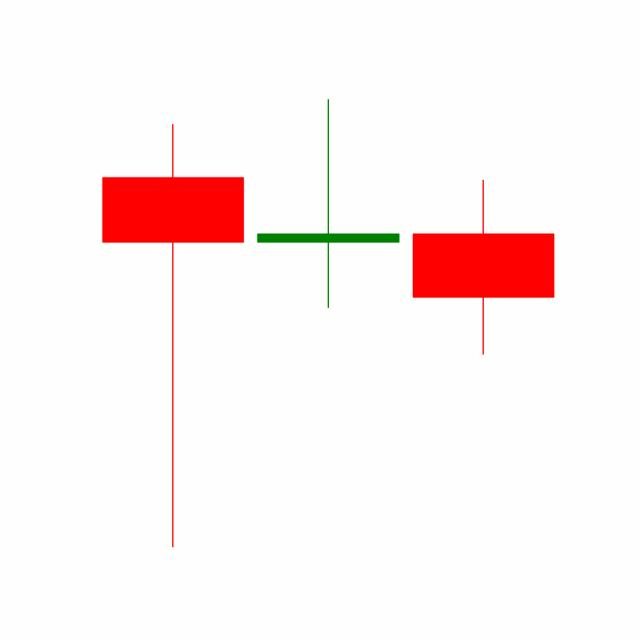Spinning Top: (249, 97, 406, 310)
